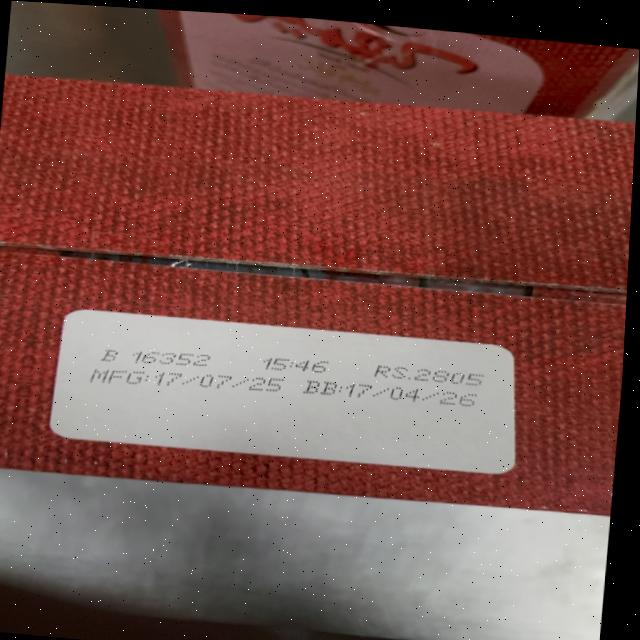BB: (302, 377, 482, 410)
Batch: (101, 345, 211, 370)
MFG: (91, 358, 288, 400)
RS: (372, 363, 488, 388)
TimeStamp: (259, 355, 330, 375)
